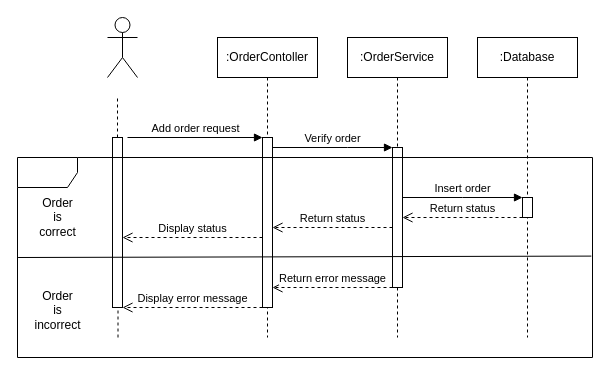
The diagram is 610 pixels wide and 375 high, and some of its shapes have lost their labels. Here are the shapes that lost their labels. From the top down, the box of each, then its label:
(106, 16, 138, 78): Employee
(16, 156, 592, 358): Scenario
